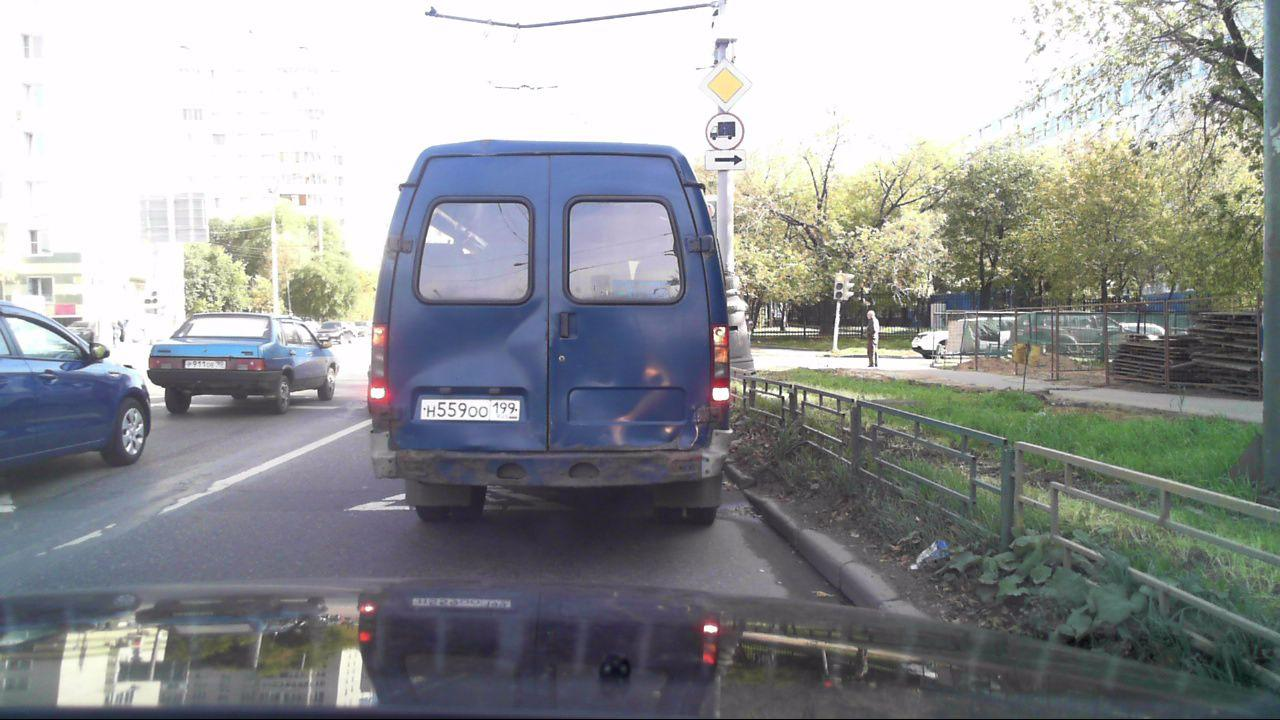2_1: (701, 62, 750, 110)
3_4: (703, 113, 745, 150)
8_3_1: (707, 154, 746, 174)
